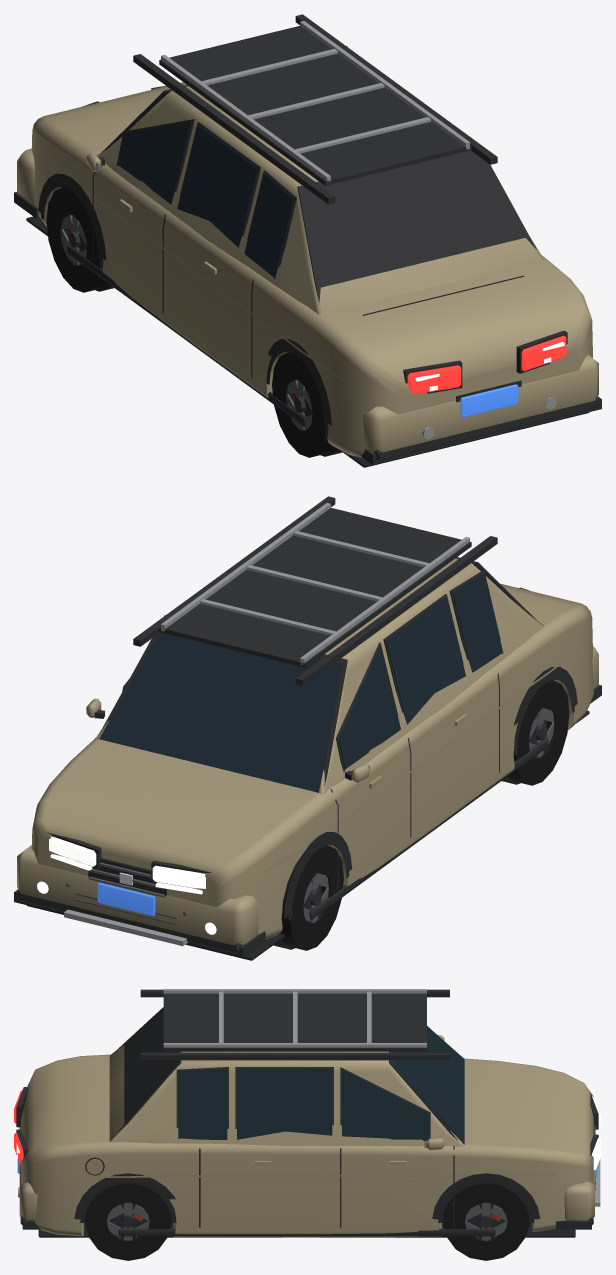
Rendered from car_suv_offroad_sand.glb.
The picture shows the model from 3 angles, top to bottom: view 1: azimuth 30°, elevation 25°; view 2: azimuth 150°, elevation 25°; view 3: azimuth 270°, elevation 25°; orthographic projection. The views are drawn at different scales.
Parts seen in each view (by area): view 1: Body, Trim, Glass, Wheel_RL, Wheel_FL, Lights, Plate_R; view 2: Body, Trim, Glass, Wheel_FL, Wheel_RL, Lights, Plate_F; view 3: Body, Trim, Glass, Wheel_FR, Wheel_RR, Lights.
Boxes of the visible parts, x1,y1,x2,y2 form: Body: (17, 82, 598, 457); Trim: (14, 14, 601, 467); Glass: (96, 91, 294, 279); Wheel_RL: (272, 352, 334, 457); Wheel_FL: (46, 187, 108, 292); Lights: (407, 335, 566, 393); Plate_R: (460, 384, 518, 417); Body: (17, 558, 598, 945); Trim: (14, 496, 601, 960); Glass: (98, 564, 503, 792); Wheel_FL: (280, 845, 343, 950); Wheel_RL: (507, 680, 569, 785); Lights: (37, 836, 216, 934); Plate_F: (97, 882, 155, 915); Body: (19, 1035, 594, 1237); Trim: (16, 989, 600, 1237); Glass: (171, 1026, 464, 1147); Wheel_FR: (443, 1183, 529, 1260); Wheel_RR: (85, 1183, 171, 1260); Lights: (14, 1090, 601, 1169).
Size of the model in its own units: 2.13 by 1.84 by 4.93.
